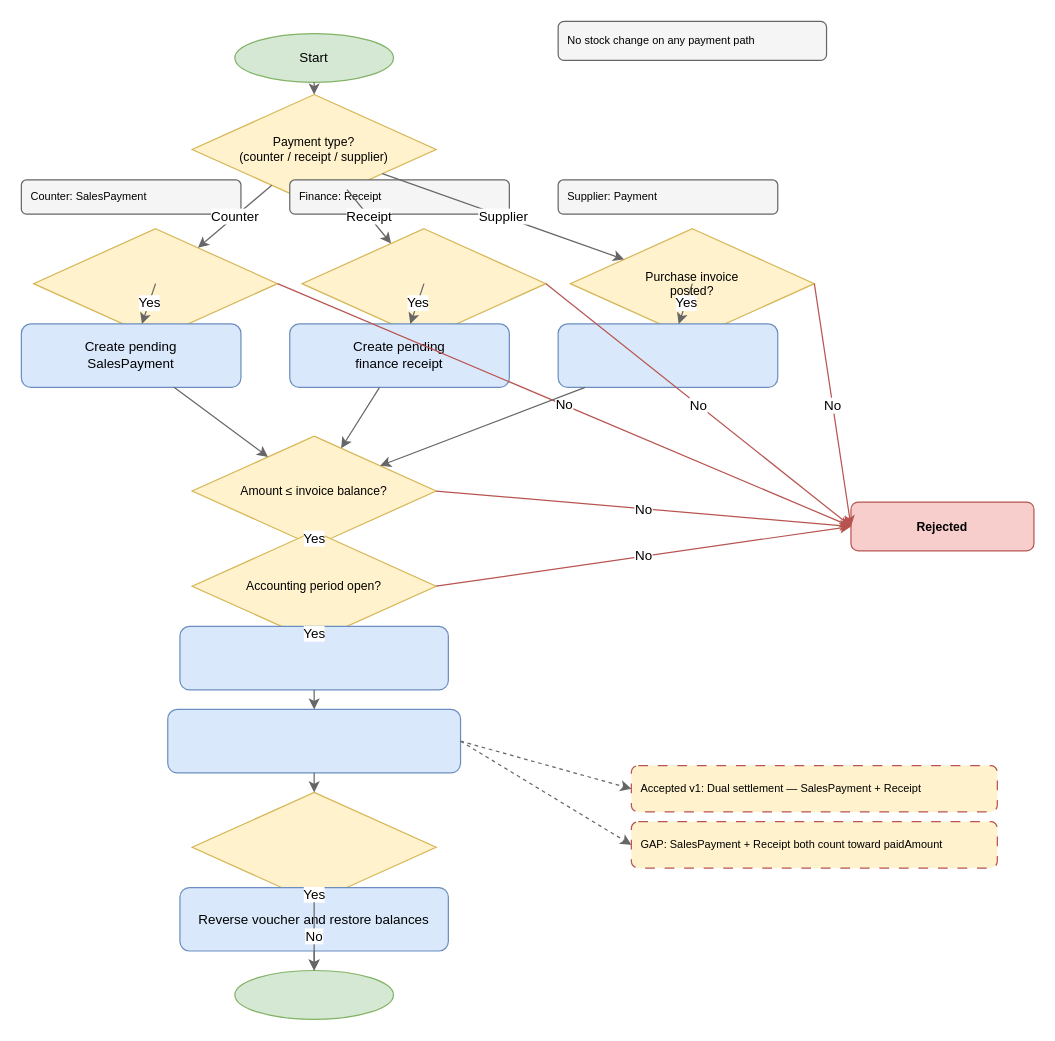
Image size: 1055x1041. Some labels were removed from this diagram. The shapes that lost their labels are listed below. From the top down, each one's centre as x and y in pixels, then its label:
At (x=155, y=283): "Sales invoice posted?".
At (x=423, y=283): "Linked invoice posted?".
At (x=667, y=355): "Create pending supplier payment".
At (x=313, y=657): "Complete: post ledger voucher".
At (x=314, y=740): "Recompute invoice paid/balance/status and update party outstanding".
At (x=313, y=846): "Cancel completed payment?".
At (x=313, y=994): "End".
